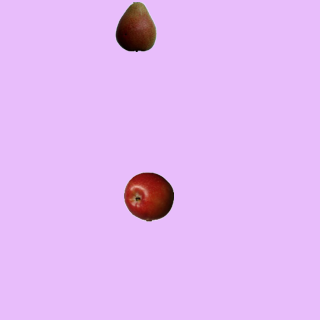Apple Braeburn: (123, 171, 173, 221)
Pear Forelle: (110, 1, 160, 51)
